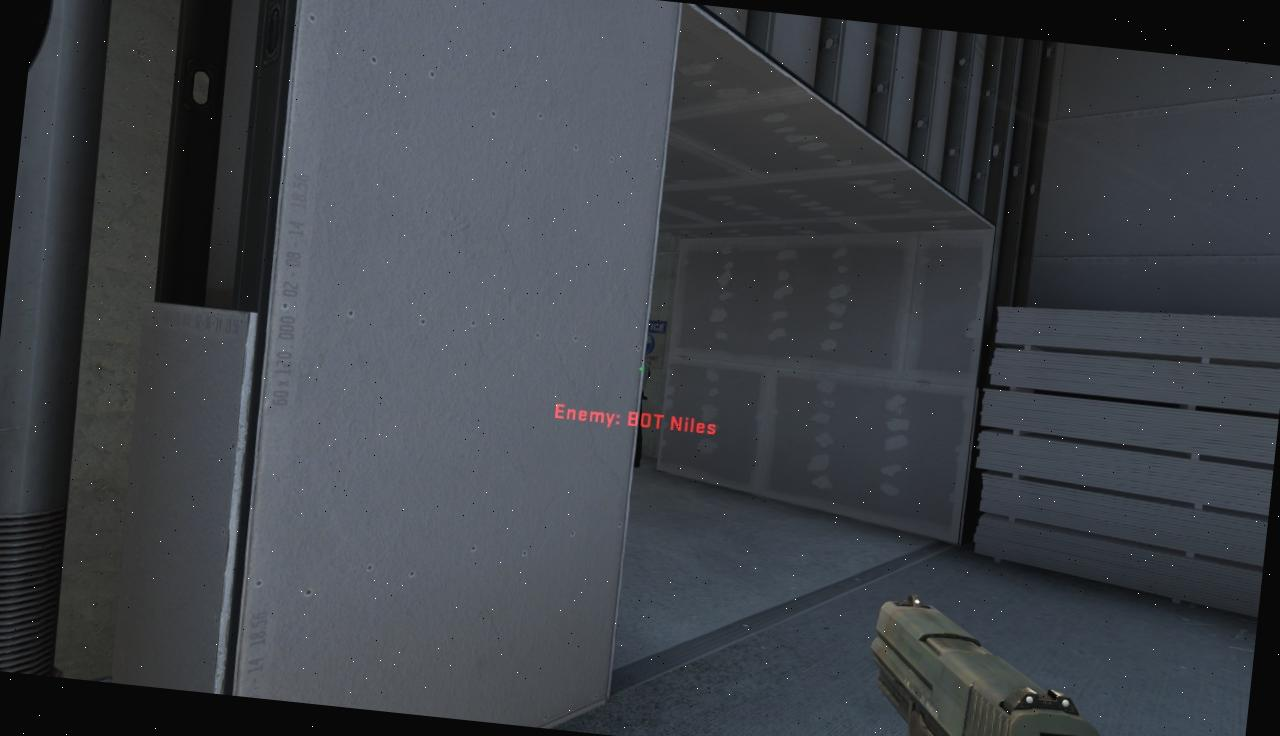pistol: (858, 587, 1139, 736)
